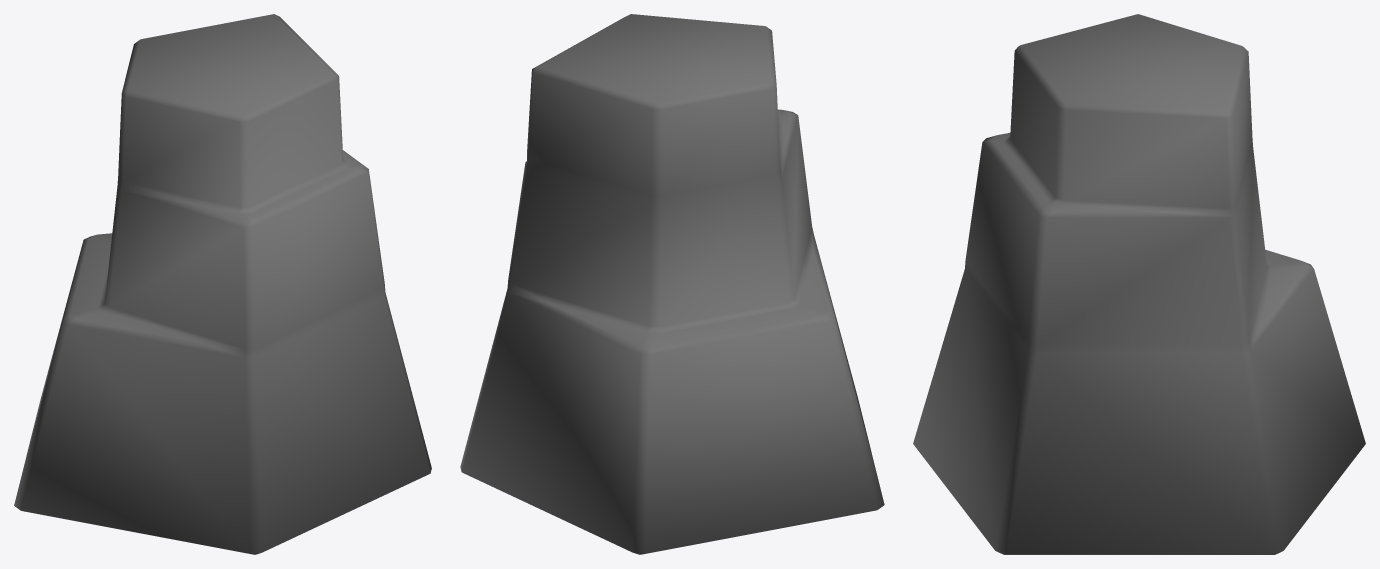
The model's file is layeredRock-02_col.fbx.
The picture shows the model from 3 angles, left to right: view 1: azimuth 30°, elevation 25°; view 2: azimuth 150°, elevation 25°; view 3: azimuth 270°, elevation 25°; orthographic projection. The views are drawn at different scales.
Parts seen in each view (by area): view 1: layeredRock-02.col; view 2: layeredRock-02.col; view 3: layeredRock-02.col.
Part boxes in pixels (x1,y1,x2,y2): layeredRock-02.col: (14, 14, 431, 554); layeredRock-02.col: (460, 14, 884, 554); layeredRock-02.col: (913, 14, 1365, 554).
Size of the model in its own units: 0.324 by 0.348 by 0.3407.
1 material, 1 textured.
